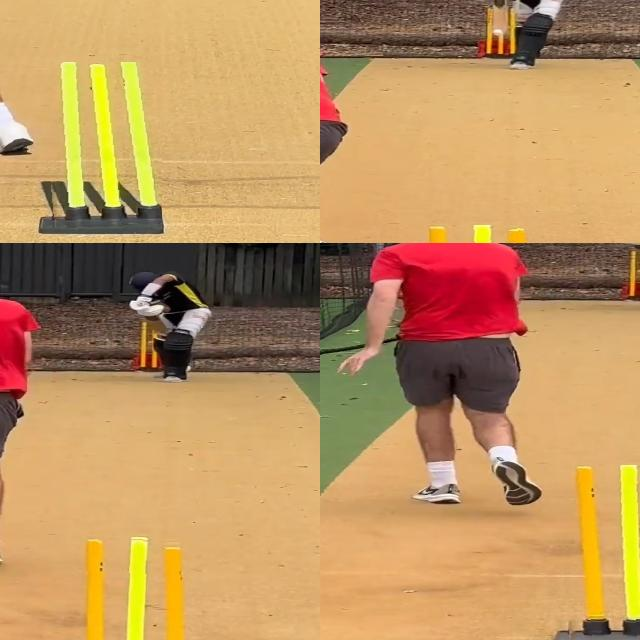Cricket ball: (491, 28, 505, 36)
Stumps: (41, 62, 162, 233), (554, 464, 640, 640), (64, 535, 202, 640)
